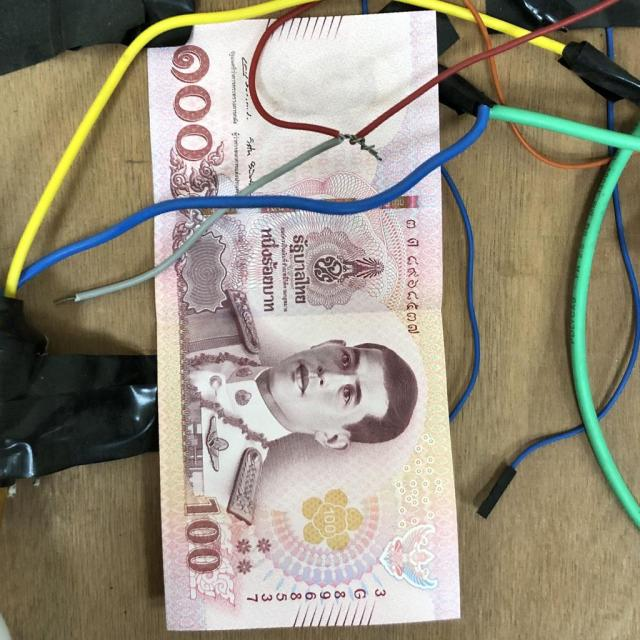THAI100: (155, 172, 459, 631), (148, 20, 328, 202), (258, 12, 436, 130), (251, 91, 439, 200), (154, 209, 212, 264)
